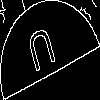U: (25, 25, 60, 82)
